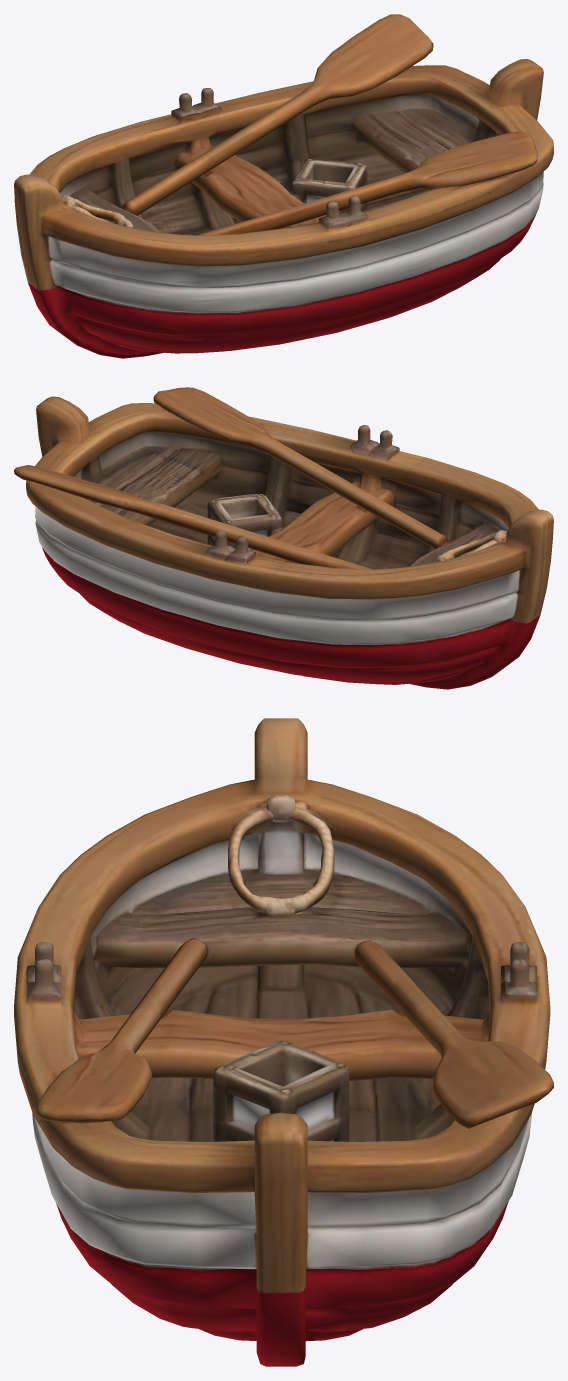
File: rowboat.glb
The picture shows the model from 3 angles, top to bottom: view 1: azimuth 30°, elevation 25°; view 2: azimuth 150°, elevation 25°; view 3: azimuth 270°, elevation 25°; orthographic projection. The views are drawn at different scales.
Parts seen in each view (by area): view 1: tripo_node_b7a86c0c-e8b5-42d5-9705-1f885cfb076c; view 2: tripo_node_b7a86c0c-e8b5-42d5-9705-1f885cfb076c; view 3: tripo_node_b7a86c0c-e8b5-42d5-9705-1f885cfb076c.
Part boxes in pixels (bbox=[...]): tripo_node_b7a86c0c-e8b5-42d5-9705-1f885cfb076c: bbox=[14, 14, 553, 358]; tripo_node_b7a86c0c-e8b5-42d5-9705-1f885cfb076c: bbox=[14, 387, 553, 689]; tripo_node_b7a86c0c-e8b5-42d5-9705-1f885cfb076c: bbox=[14, 718, 553, 1366].
Size of the model in its own units: 0.9792 by 0.366 by 0.5461.
1 material, 1 textured.
